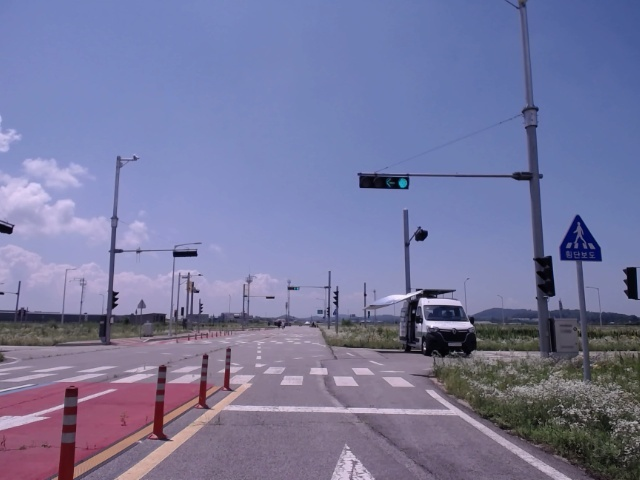all_green_4: (361, 174, 405, 186)
